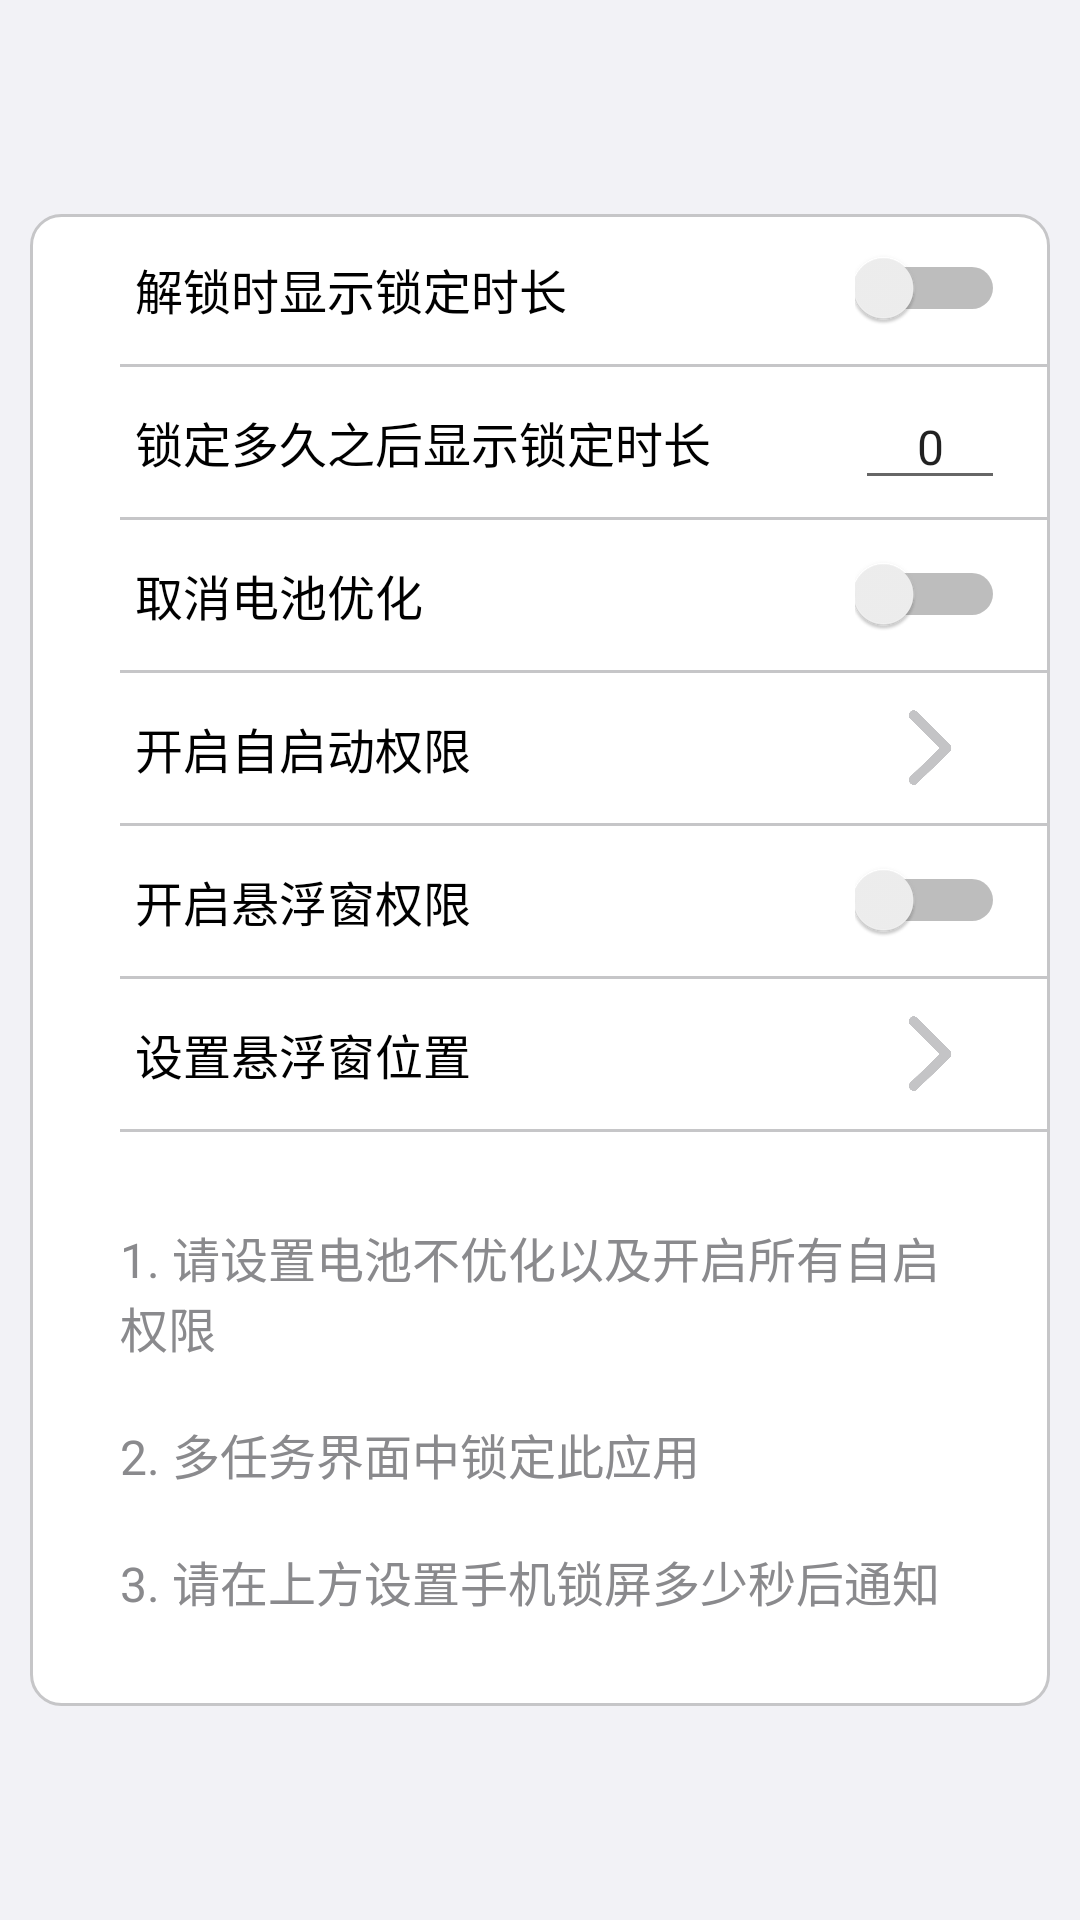

Icon bounding boxes for this 1080x1920 phone screenshot, format [x1,y1,x2,y2]:
right arrow: [909,710,951,785], [909,1016,951,1091]
